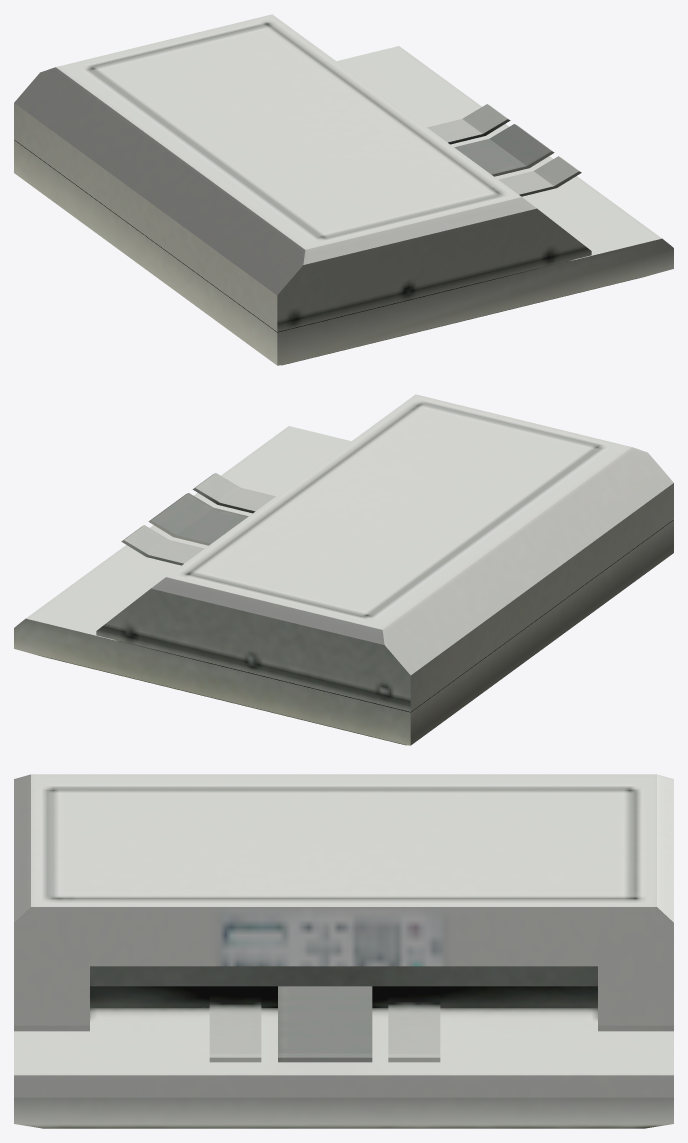
The model's file is 3Dguoji_HGDT_XDYJ_ljw.FBX.
3 views of the same model, one above another, from view 1: azimuth 30°, elevation 25°; view 2: azimuth 150°, elevation 25°; view 3: azimuth 270°, elevation 25° (orthographic). The views are drawn at different scales.
Parts seen in each view (by area): view 1: 3Dguoji_HGDT_XDYJ_ljw; view 2: 3Dguoji_HGDT_XDYJ_ljw; view 3: 3Dguoji_HGDT_XDYJ_ljw.
Part boxes in pixels (x1,y1,x2,y2): 3Dguoji_HGDT_XDYJ_ljw: [14, 14, 673, 365]; 3Dguoji_HGDT_XDYJ_ljw: [14, 394, 673, 745]; 3Dguoji_HGDT_XDYJ_ljw: [14, 774, 673, 1128].
Bounding box in the file's own units: 0.3394 × 0.0936 × 0.39.
